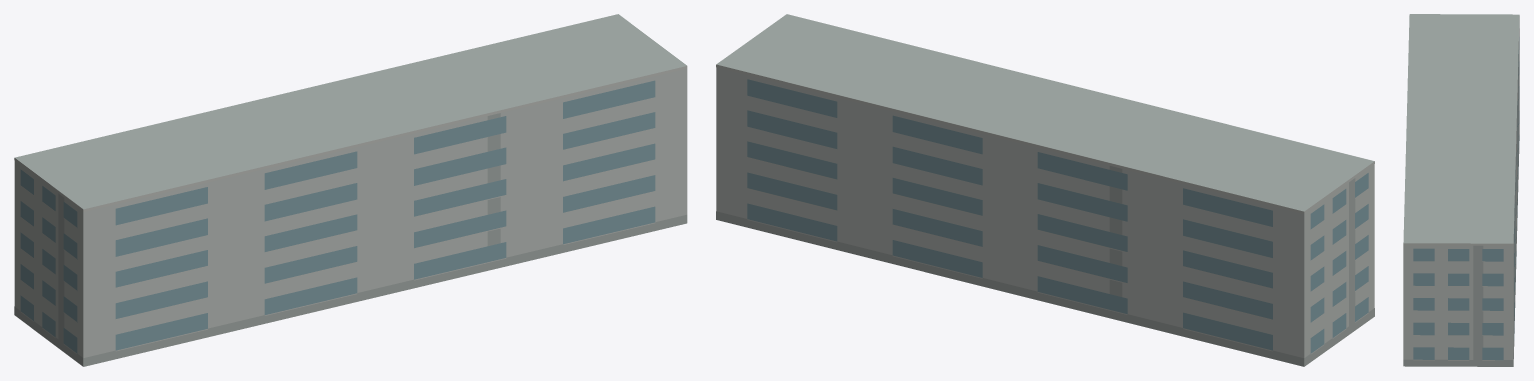
File: residential-862db4c7-b23a-473a-b42b-7c42d632b63d.glb
The picture shows the model from 3 angles, left to right: view 1: azimuth 30°, elevation 25°; view 2: azimuth 150°, elevation 25°; view 3: azimuth 270°, elevation 25°; orthographic projection. The views are drawn at different scales.
Visible parts, largest first — view 1: residential-862db4c7-b23a-473a-b42b-7c42d632b63d.tmp; view 2: residential-862db4c7-b23a-473a-b42b-7c42d632b63d.tmp; view 3: residential-862db4c7-b23a-473a-b42b-7c42d632b63d.tmp.
Part boxes in pixels (bbox=[...]): residential-862db4c7-b23a-473a-b42b-7c42d632b63d.tmp: bbox=[14, 14, 687, 366]; residential-862db4c7-b23a-473a-b42b-7c42d632b63d.tmp: bbox=[716, 14, 1374, 366]; residential-862db4c7-b23a-473a-b42b-7c42d632b63d.tmp: bbox=[1403, 14, 1519, 366].
Size of the model in its own units: 55.95 by 14 by 11.96.
